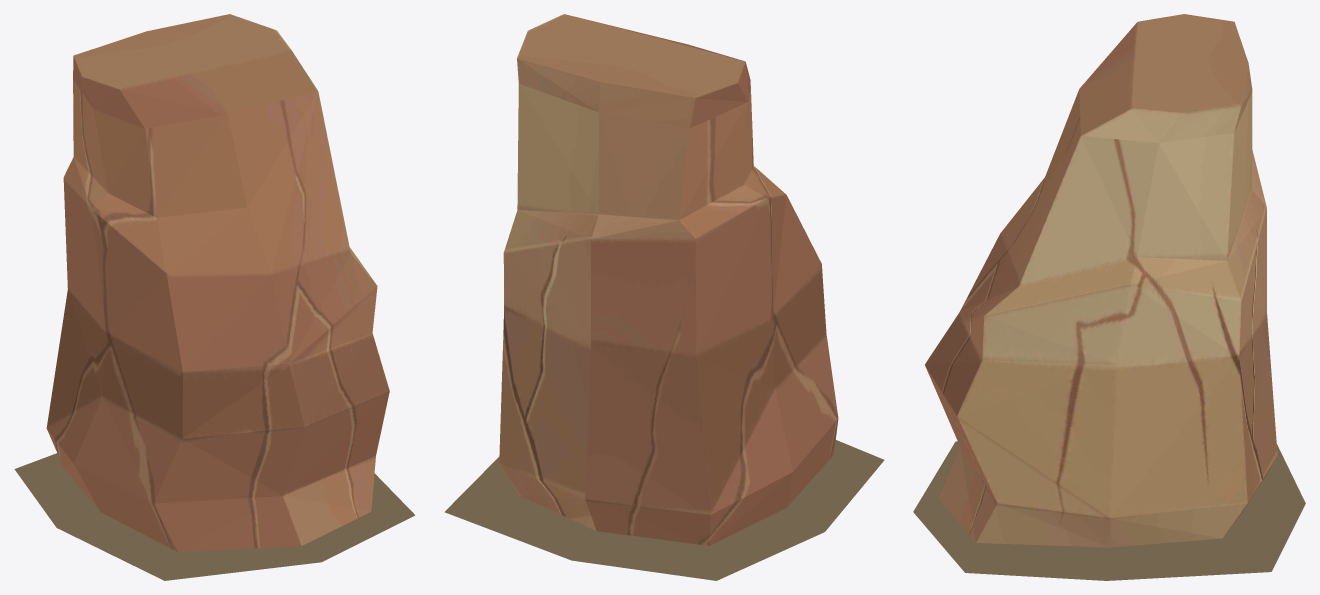
File: Sand_Chair.glb
The picture shows the model from 3 angles, left to right: view 1: azimuth 30°, elevation 25°; view 2: azimuth 150°, elevation 25°; view 3: azimuth 270°, elevation 25°; orthographic projection. The views are drawn at different scales.
Parts seen in each view (by area): view 1: Sand_Chair, Chair_Shadow; view 2: Sand_Chair, Chair_Shadow; view 3: Sand_Chair, Chair_Shadow.
Boxes of the visible parts, x1,y1,x2,y2 form: Sand_Chair: (46, 14, 389, 551); Chair_Shadow: (14, 453, 415, 580); Sand_Chair: (499, 14, 838, 545); Chair_Shadow: (444, 440, 884, 580); Sand_Chair: (925, 14, 1277, 547); Chair_Shadow: (913, 441, 1305, 580).
Bounding box in the file's own units: 1.47 × 1.97 × 1.59.
2 materials, 2 textured.
